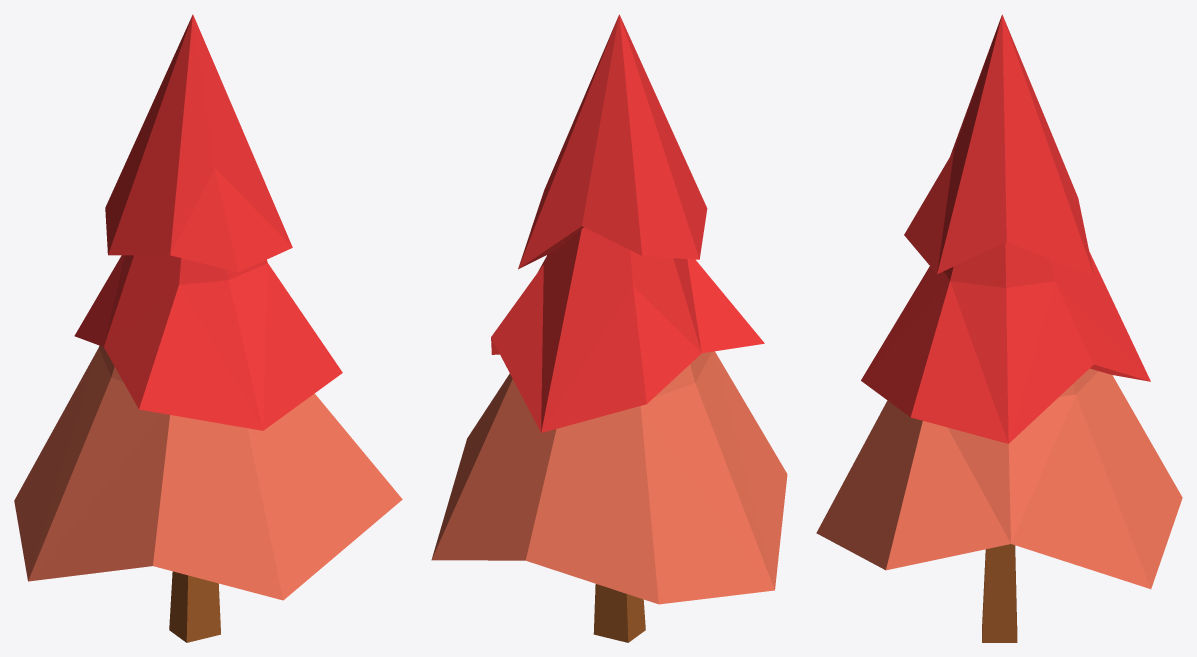
The model's file is Tree 03.FBX.
The picture shows the model from 3 angles, left to right: view 1: azimuth 30°, elevation 25°; view 2: azimuth 150°, elevation 25°; view 3: azimuth 270°, elevation 25°; orthographic projection.
Parts seen in each view (by area): view 1: Box001; view 2: Box001; view 3: Box001.
Boxes of the visible parts, box(x1,y1,x2,y2) form: Box001: box(14, 14, 402, 642); Box001: box(431, 14, 787, 642); Box001: box(816, 14, 1182, 642).
Size of the model in its own units: 6.76 by 12.8 by 6.86.
